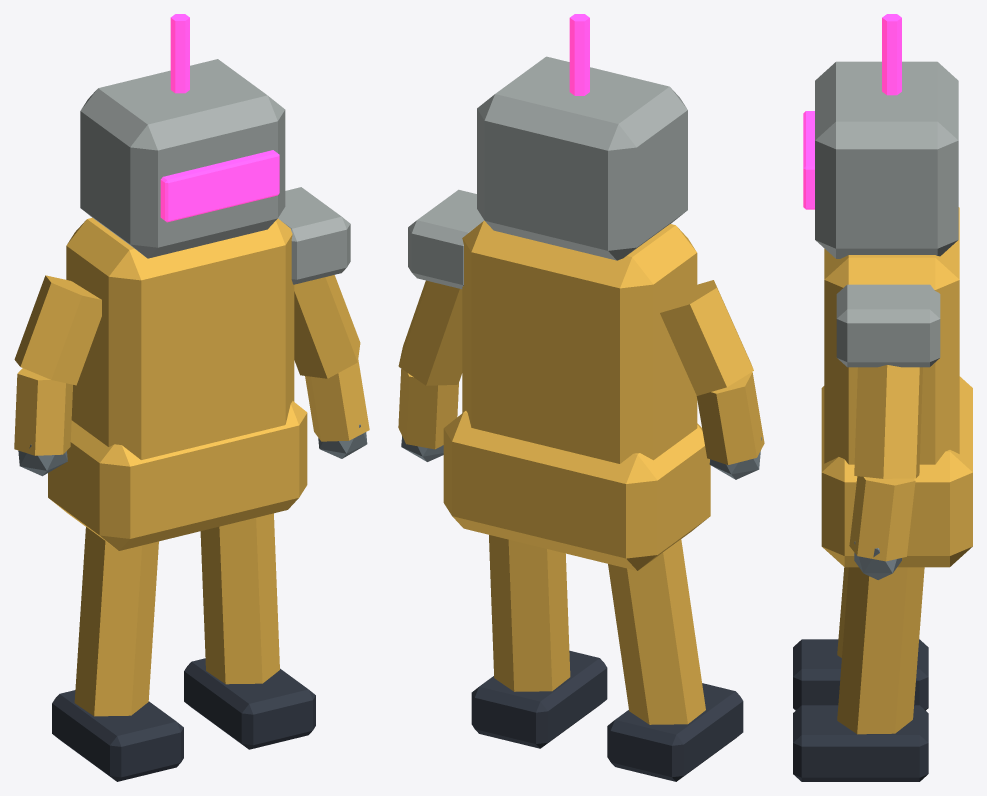
File: npcs_006_seed11.glb
The picture shows the model from 3 angles, left to right: view 1: azimuth 30°, elevation 25°; view 2: azimuth 150°, elevation 25°; view 3: azimuth 270°, elevation 25°; orthographic projection. The views are drawn at different scales.
Visible parts, largest first — view 1: npcs_006_seed11; view 2: npcs_006_seed11; view 3: npcs_006_seed11.
Part boxes in pixels (x1,y1,x2,y2): npcs_006_seed11: (14,14,369,781); npcs_006_seed11: (398,14,764,781); npcs_006_seed11: (793,14,972,781).
Bounding box in the file's own units: 1.18 × 2.29 × 0.5176.
